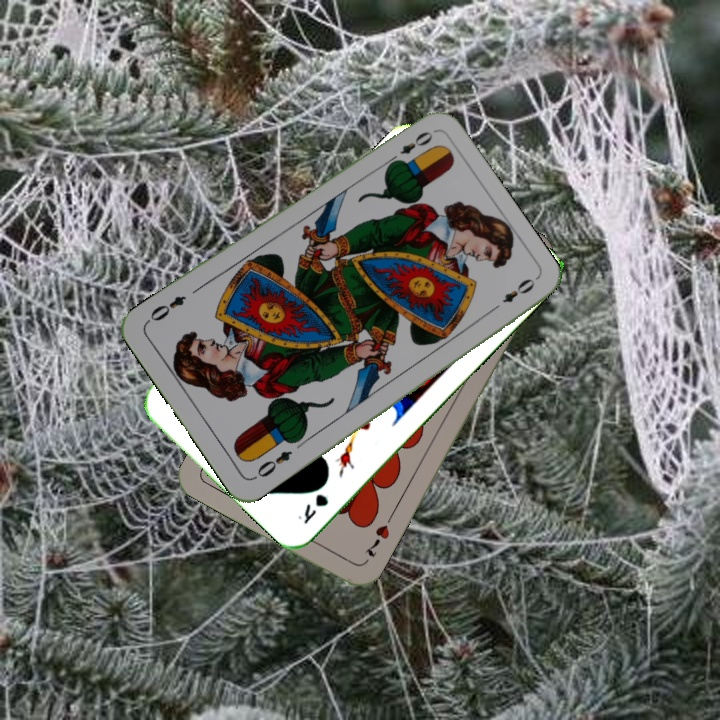EO: (384, 127, 436, 167), (249, 446, 295, 482)
GK: (299, 489, 332, 527)
H7: (360, 520, 392, 560)
